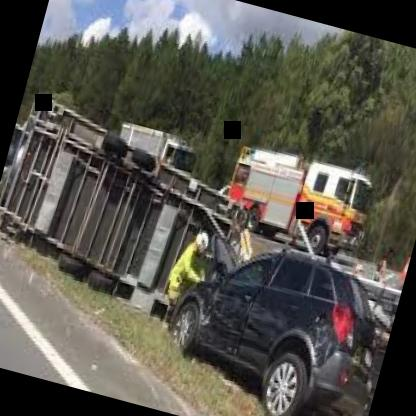accident: (0, 85, 293, 387)
